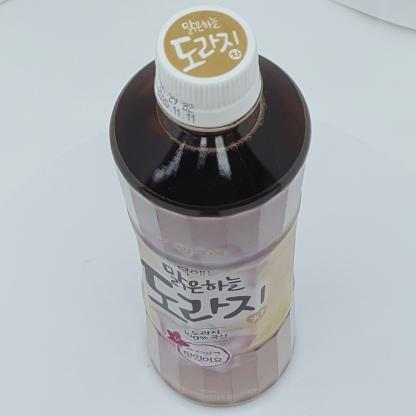------------500ML: (108, 4, 312, 407)
